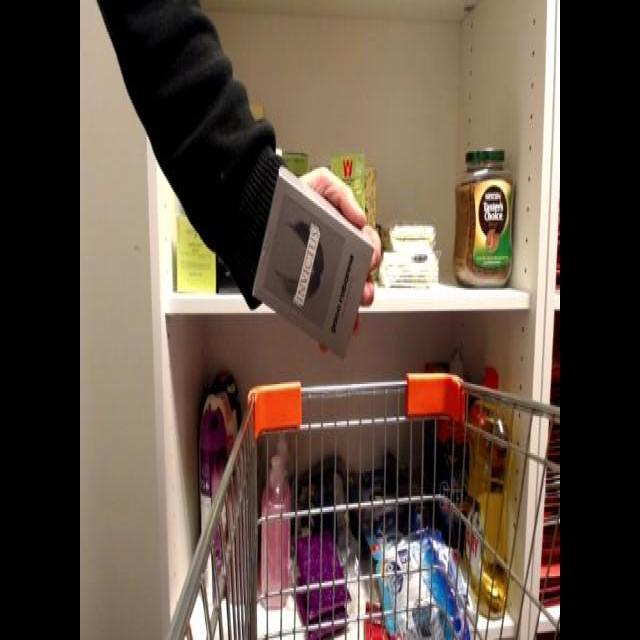Paco Rabanne: (252, 161, 378, 367)
